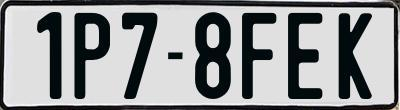1: (35, 10, 63, 103)
7: (122, 12, 158, 104)
8: (192, 11, 230, 101)
E: (286, 10, 326, 102)
F: (240, 11, 280, 100)
K: (336, 11, 374, 102)
P: (72, 13, 111, 100)
